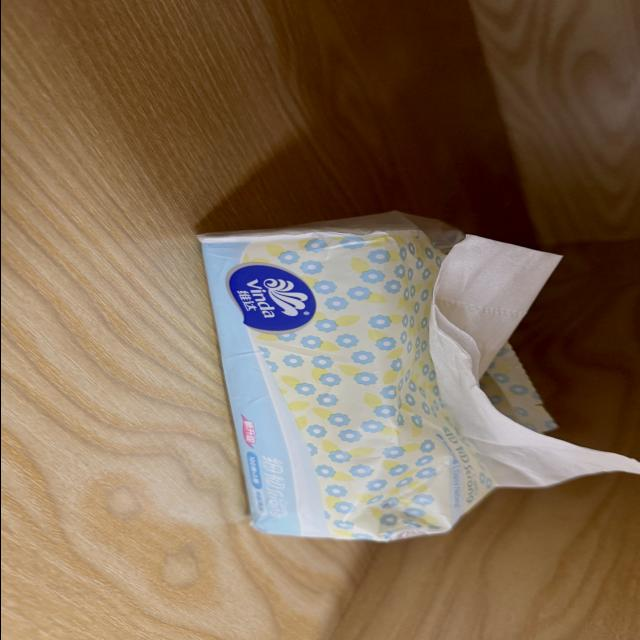tissue: (199, 213, 639, 540)
